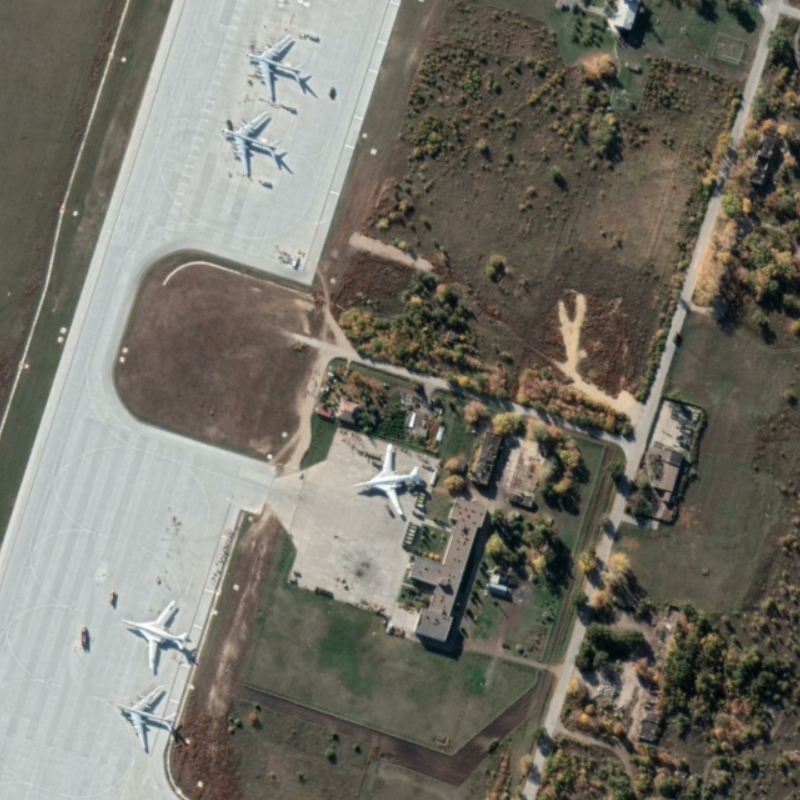A17: (241, 30, 311, 105), (110, 682, 179, 754), (219, 107, 285, 181)
A6: (343, 441, 424, 520), (117, 597, 193, 674)
